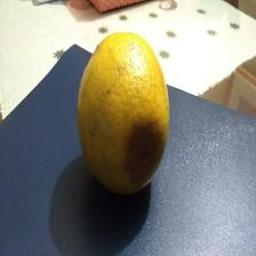Orange Semirotten: (69, 35, 178, 200)
